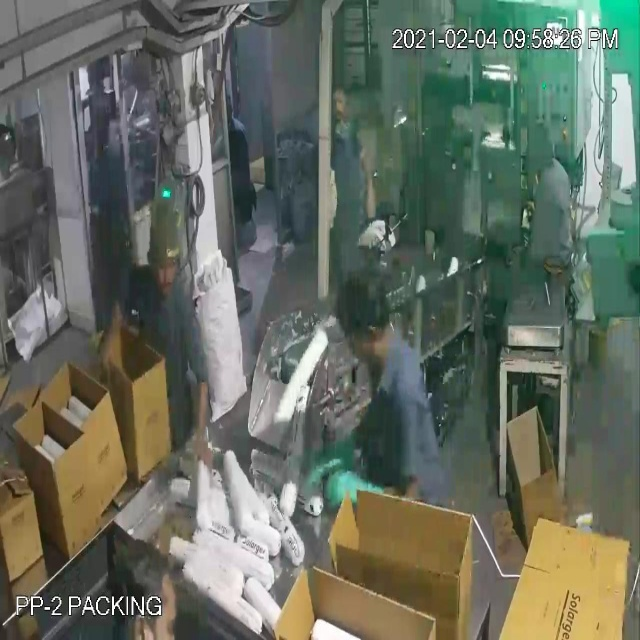Guantes: (325, 466, 436, 542)
Sin_guantes: (178, 364, 226, 491), (92, 287, 137, 397), (348, 152, 379, 224)
